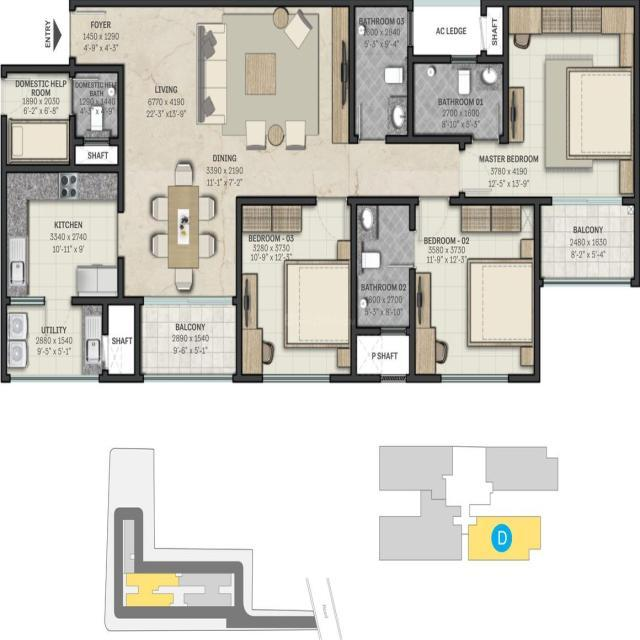Balcony-Sitout: (138, 305, 235, 374), (542, 206, 635, 276)
Bedroom: (244, 205, 349, 376), (5, 73, 71, 164)
Bedroom with Toilet: (410, 2, 637, 200), (353, 202, 537, 378)
Dining: (143, 151, 221, 298)
Enterance-Foyer: (52, 4, 124, 65)
Kitchen: (8, 174, 118, 294)
Living: (191, 6, 350, 155)
Toilet: (357, 206, 414, 323), (358, 7, 405, 134), (415, 68, 504, 134), (73, 71, 117, 141)
Utility: (6, 305, 107, 377)
